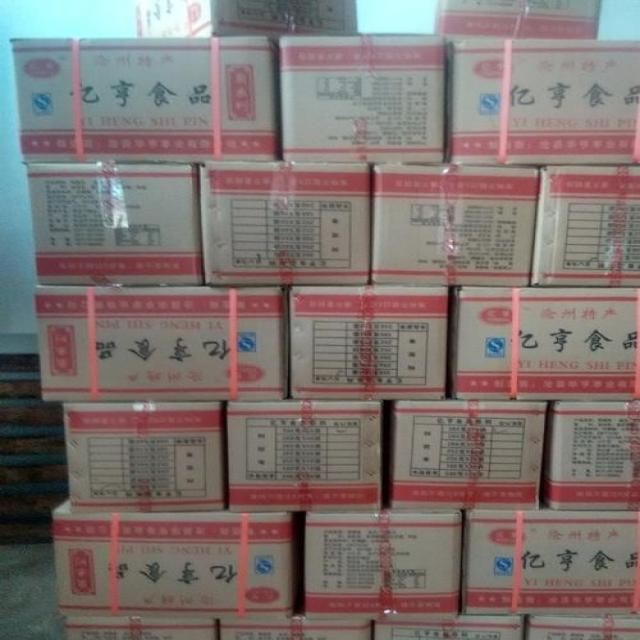box: (10, 36, 279, 162), (53, 498, 293, 619), (37, 285, 288, 400), (444, 40, 637, 165), (27, 162, 204, 285), (199, 158, 370, 285), (278, 33, 444, 163), (451, 286, 637, 401), (372, 162, 540, 287), (464, 505, 639, 614), (290, 286, 449, 401), (62, 401, 225, 513), (305, 506, 462, 621), (228, 400, 383, 512), (392, 401, 548, 510), (530, 165, 639, 286), (132, 0, 359, 45), (547, 401, 637, 511), (434, 0, 602, 45), (220, 613, 372, 639), (374, 614, 525, 639), (65, 616, 217, 639), (527, 614, 637, 639)
